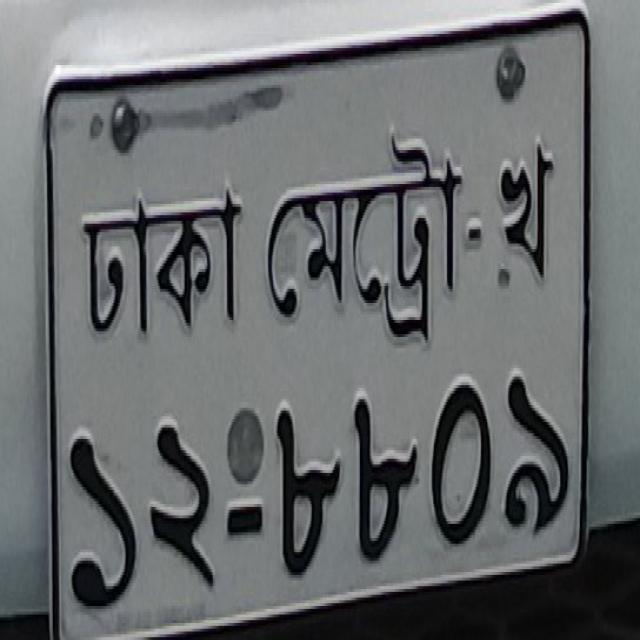numberplate: (37, 3, 595, 637)
